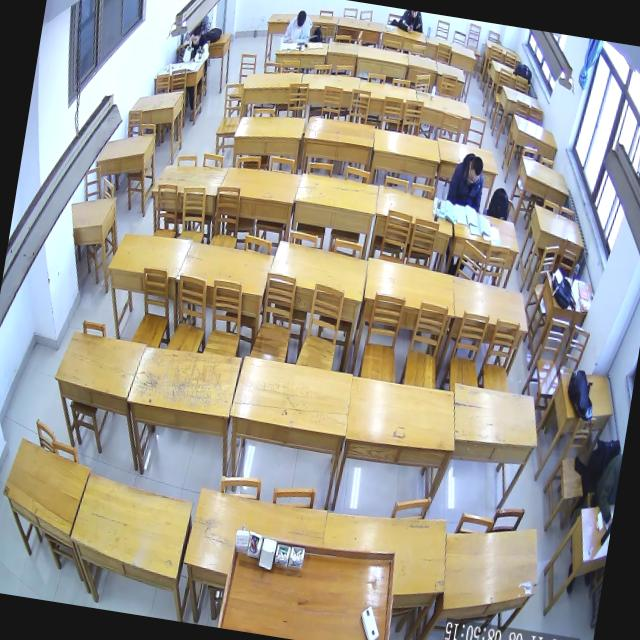down: (467, 156, 485, 186), (190, 24, 202, 46), (296, 10, 308, 30)
sit: (444, 150, 488, 213), (182, 24, 213, 66), (282, 8, 314, 47)
